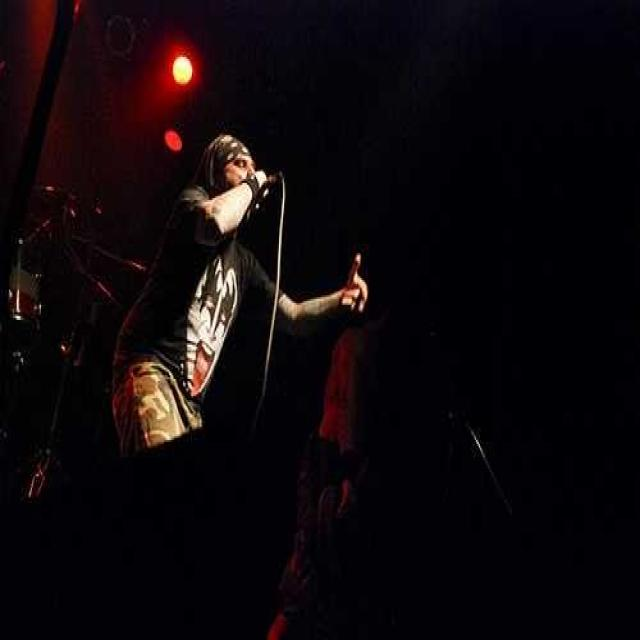microphone: (248, 170, 280, 203)
